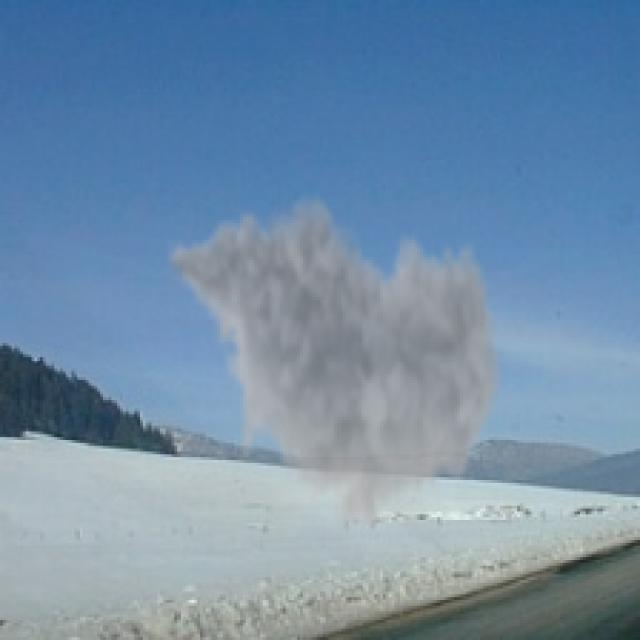smoke: (163, 186, 506, 540)
